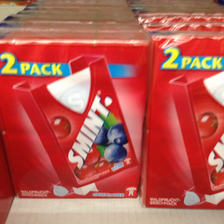candy: (1, 34, 142, 198), (141, 26, 222, 210)
